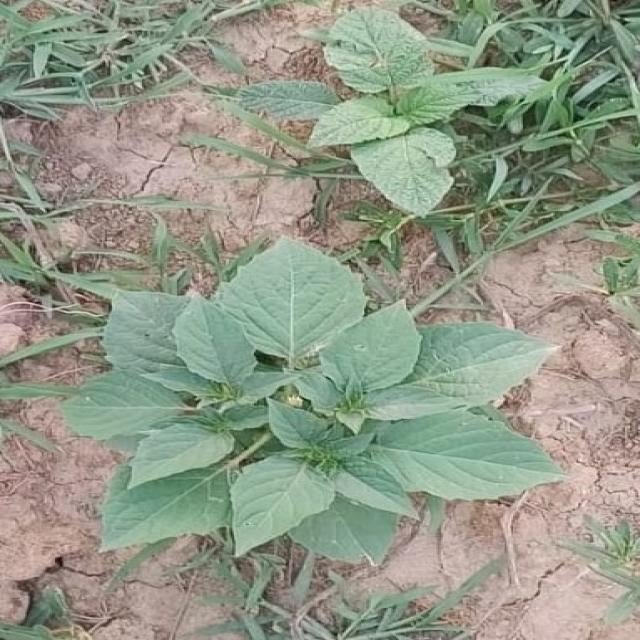weed: (3, 8, 640, 564)
